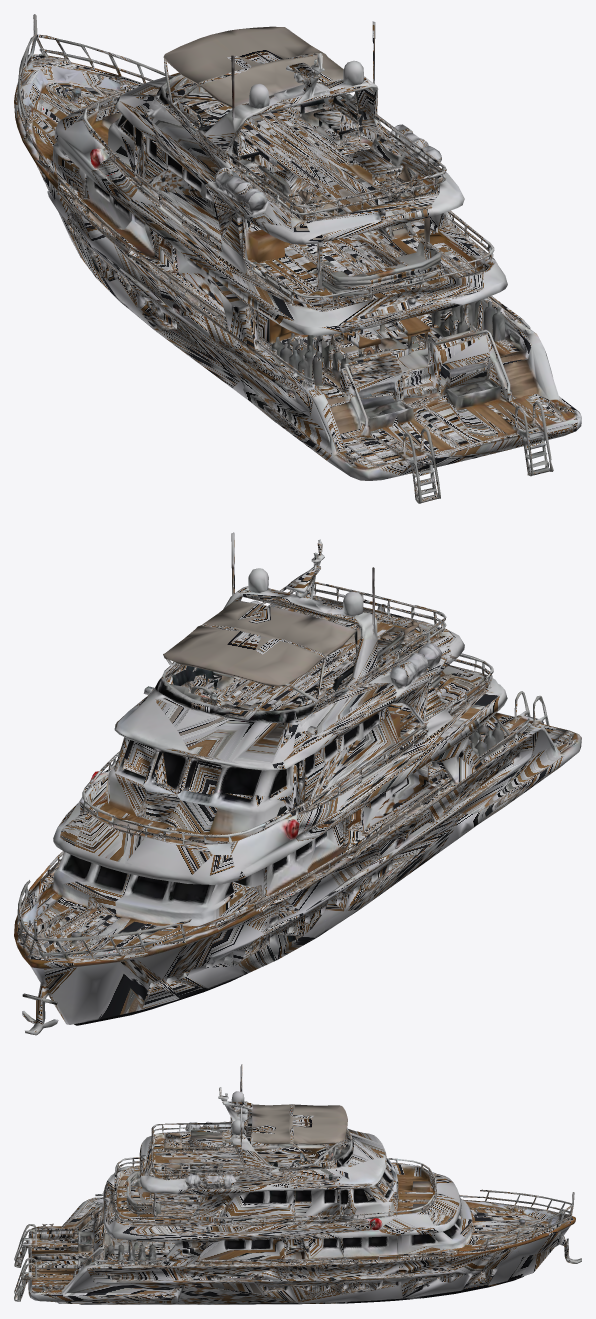
The model's file is safariboot.glb.
The picture shows the model from 3 angles, top to bottom: view 1: azimuth 30°, elevation 25°; view 2: azimuth 150°, elevation 25°; view 3: azimuth 270°, elevation 25°; orthographic projection. The views are drawn at different scales.
Visible parts, largest first — view 1: tripo_node_d6aa621c-cfcb-4843-bf95-7b65a17109a8; view 2: tripo_node_d6aa621c-cfcb-4843-bf95-7b65a17109a8; view 3: tripo_node_d6aa621c-cfcb-4843-bf95-7b65a17109a8.
Part boxes in pixels (bbox=[...]): tripo_node_d6aa621c-cfcb-4843-bf95-7b65a17109a8: bbox=[14, 14, 581, 503]; tripo_node_d6aa621c-cfcb-4843-bf95-7b65a17109a8: bbox=[14, 532, 581, 1035]; tripo_node_d6aa621c-cfcb-4843-bf95-7b65a17109a8: bbox=[14, 1064, 581, 1304].
Size of the model in its own units: 9.18 by 11.99 by 31.39.
Materials: 1 (1 with a texture image).
